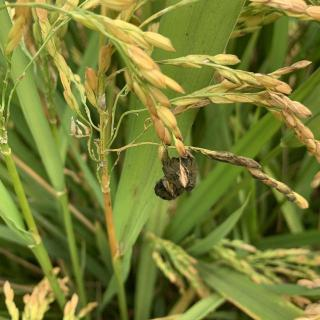Gosong-Palsu: (153, 147, 200, 200)
